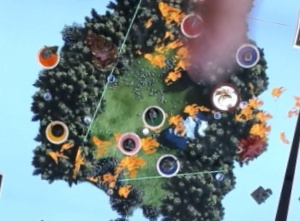blue: (153, 149, 184, 178)
green: (138, 100, 171, 131)
orange: (33, 42, 63, 71)
pink: (114, 130, 147, 157)
red: (175, 9, 210, 41)
violet: (233, 40, 264, 70)
yellow: (40, 116, 72, 147)
